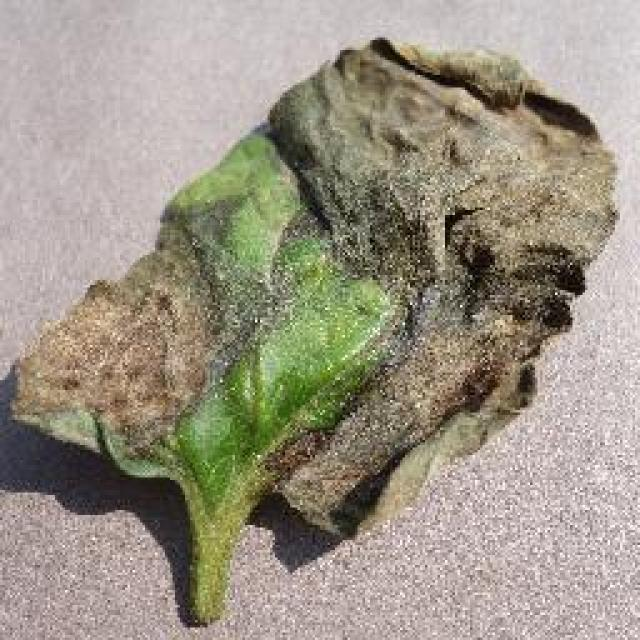Tomato Late Blight: (56, 76, 576, 526)
